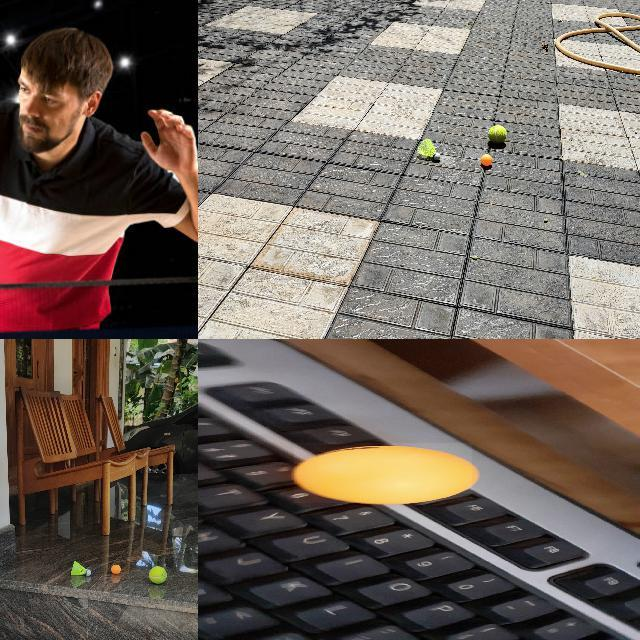ping-pong-ball: (294, 443, 473, 503), (480, 154, 492, 168), (111, 564, 121, 574)
